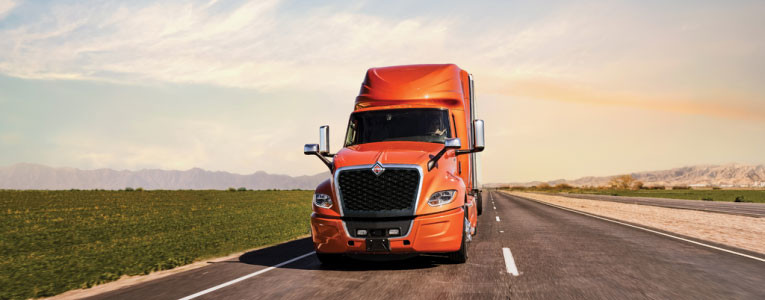truck: (303, 63, 486, 262)
